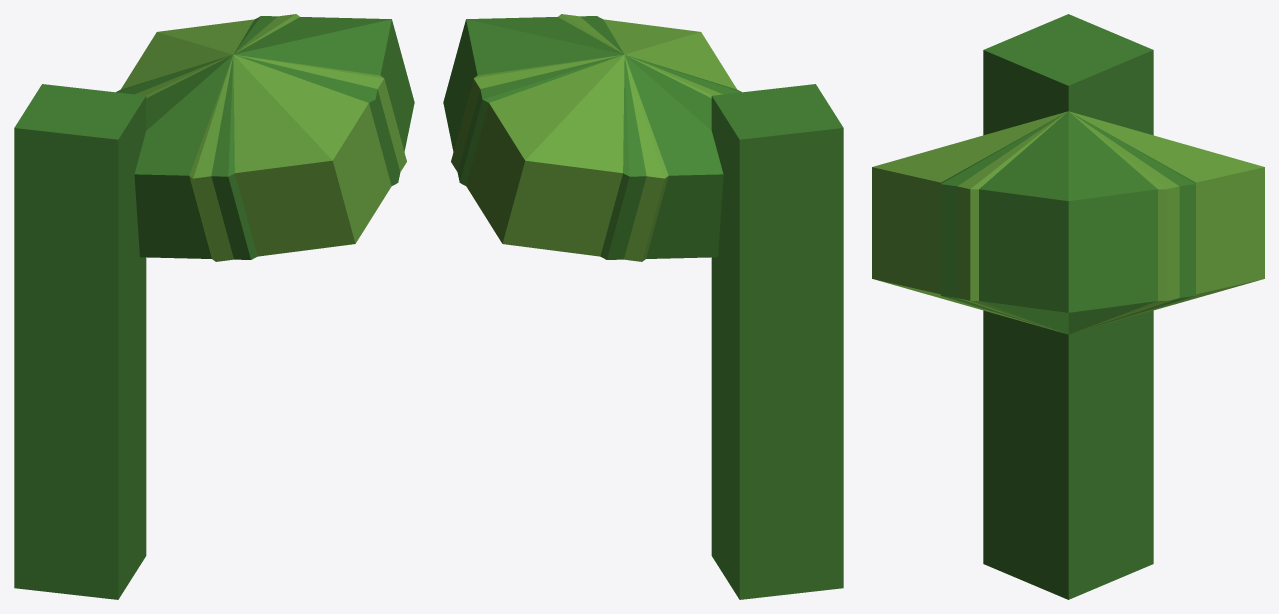
File: potato_1.glb
3 views of the same model, side by side, from view 1: azimuth 30°, elevation 25°; view 2: azimuth 150°, elevation 25°; view 3: azimuth 270°, elevation 25° (orthographic). The views are drawn at different scales.
Parts seen in each view (by area): view 1: plant; view 2: plant; view 3: plant.
Part boxes in pixels (<box>): plant: <box>14,14,414,599</box>; plant: <box>443,14,843,599</box>; plant: <box>872,14,1264,599</box>.
Bounding box in the file's own units: 0.1821 × 0.2086 × 0.1386.
